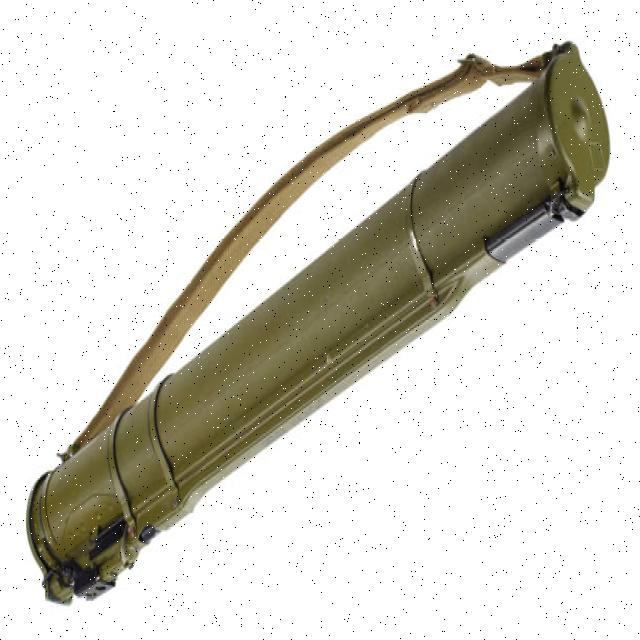bazooka: (15, 31, 618, 624)
